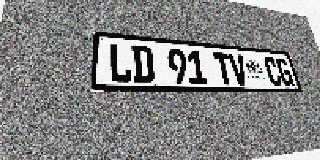1: (185, 50, 207, 84)
9: (167, 48, 189, 84)
C: (263, 57, 283, 86)
D: (131, 45, 155, 83)
G: (275, 58, 295, 86)
L: (109, 43, 132, 83)
T: (213, 52, 234, 85)
V: (228, 54, 249, 85)
